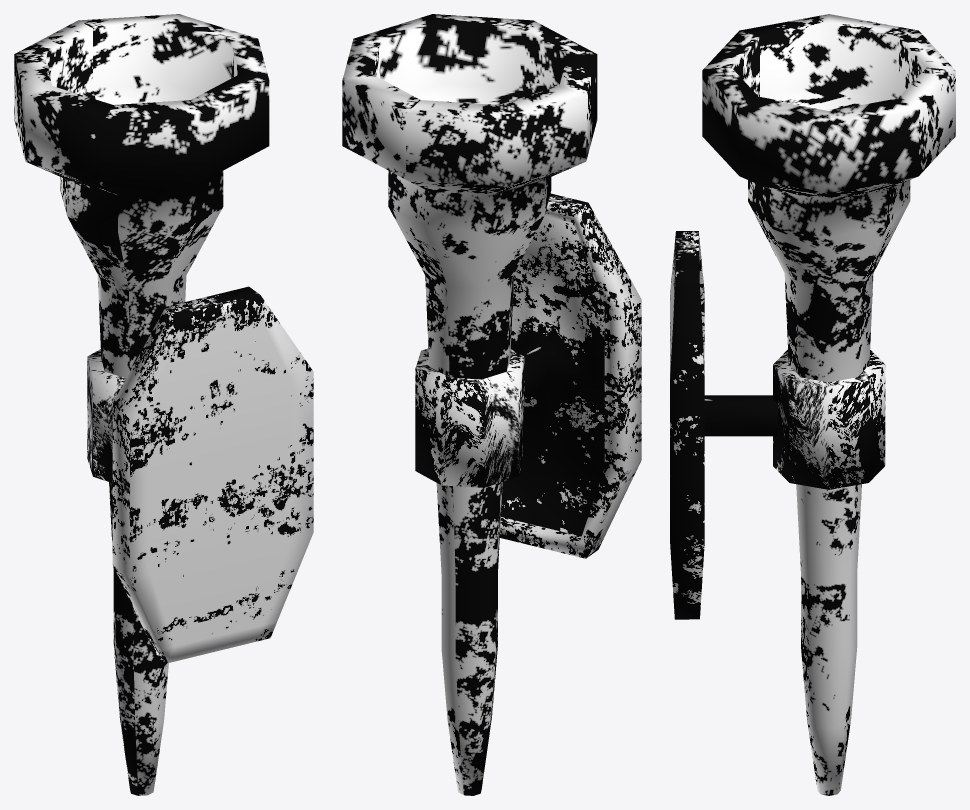
File: Fackelhalter.fbx
The picture shows the model from 3 angles, left to right: view 1: azimuth 30°, elevation 25°; view 2: azimuth 150°, elevation 25°; view 3: azimuth 270°, elevation 25°; orthographic projection.
Parts seen in each view (by area): view 1: Cylinder, Cube, Cylinder.001; view 2: Cylinder, Cube, Cylinder.001; view 3: Cylinder, Cube, Cylinder.001.
Part boxes in pixels (x1=…): Cylinder: x1=14, y1=14, x2=269, y2=795; Cube: x1=112, y1=286, x2=313, y2=662; Cylinder.001: x1=87, y1=349, x2=125, y2=482; Cylinder: x1=342, y1=14, x2=597, y2=795; Cube: x1=499, y1=193, x2=641, y2=558; Cylinder.001: x1=415, y1=348, x2=524, y2=487; Cylinder: x1=702, y1=14, x2=955, y2=795; Cube: x1=670, y1=231, x2=778, y2=619; Cylinder.001: x1=773, y1=349, x2=885, y2=489.
Bounding box in the file's own units: 13.16 × 39.26 × 14.07.
